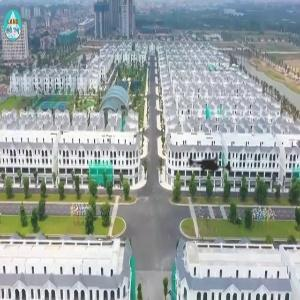drone: (165, 118, 254, 207)
